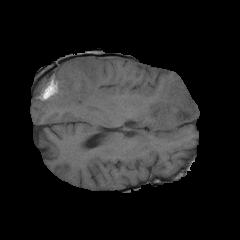glioma: (36, 57, 198, 128)
